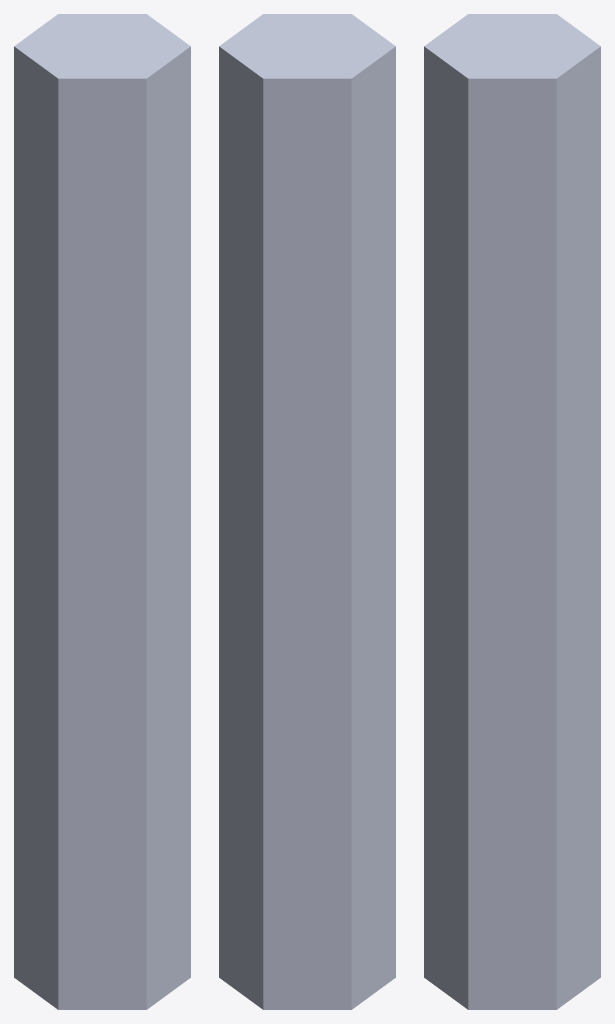
3 renders of one model, left to right at view 1: azimuth 30°, elevation 25°; view 2: azimuth 150°, elevation 25°; view 3: azimuth 270°, elevation 25°, orthographic.
Parts seen in each view (by area): view 1: object_078; view 2: object_078; view 3: object_078.
Boxes of the visible parts, bbox=[...] form: object_078: bbox=[14, 14, 190, 1009]; object_078: bbox=[219, 14, 395, 1009]; object_078: bbox=[424, 14, 600, 1009].
Bounding box in the file's own units: 0.7451 × 5 × 0.8604.
